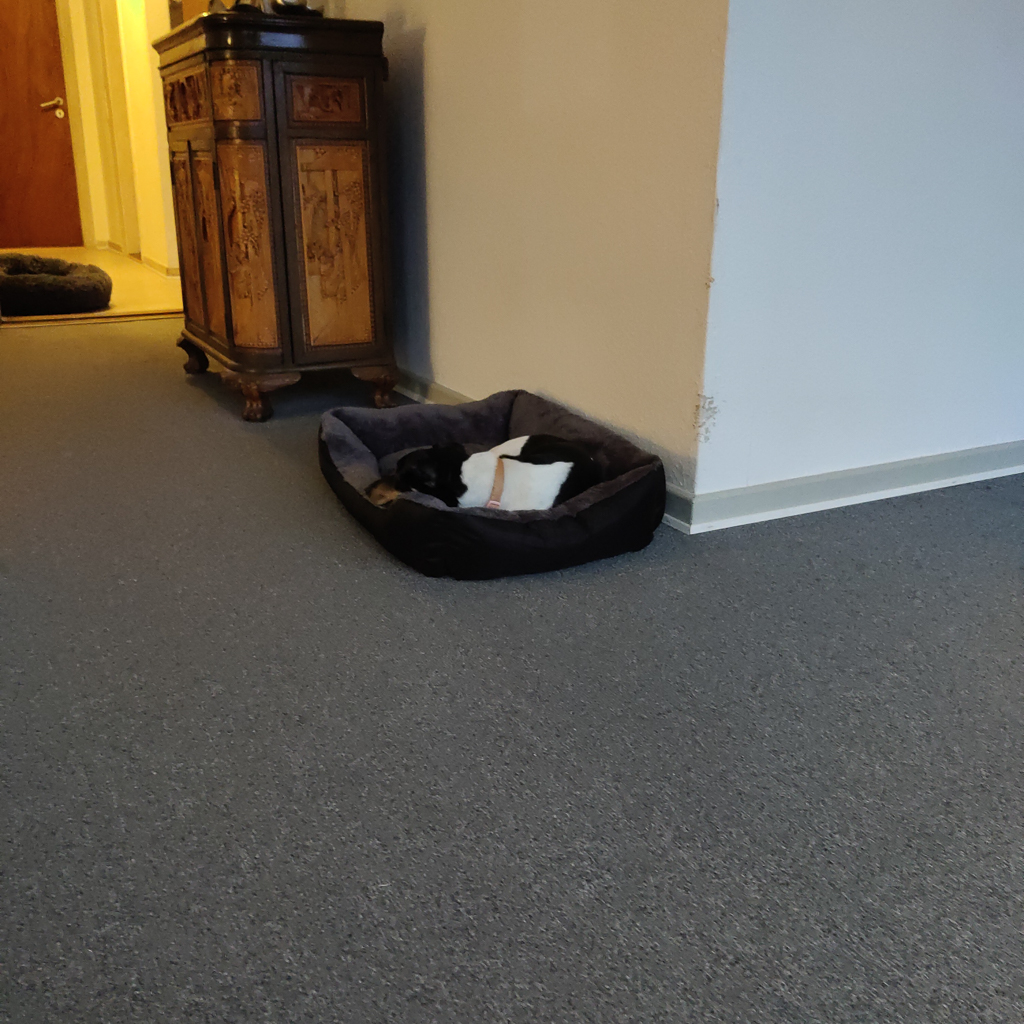Dog: (339, 412, 654, 546)
